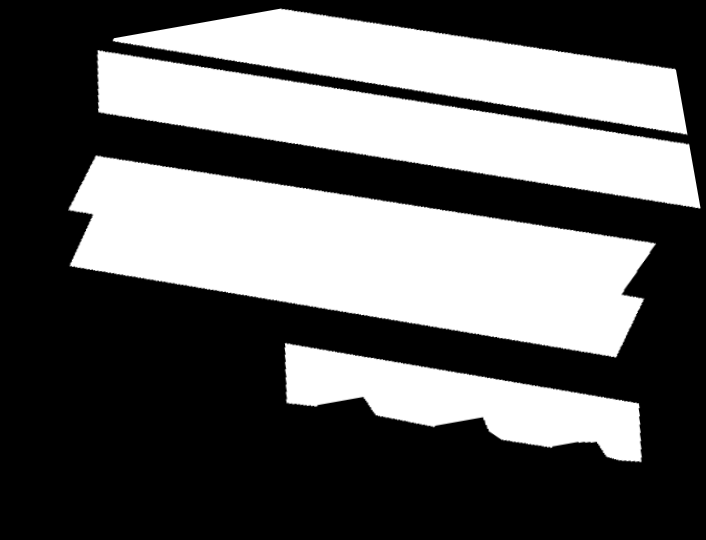parkingspot: (69, 155, 656, 358), (97, 50, 701, 209), (113, 9, 687, 135), (285, 343, 642, 462)
